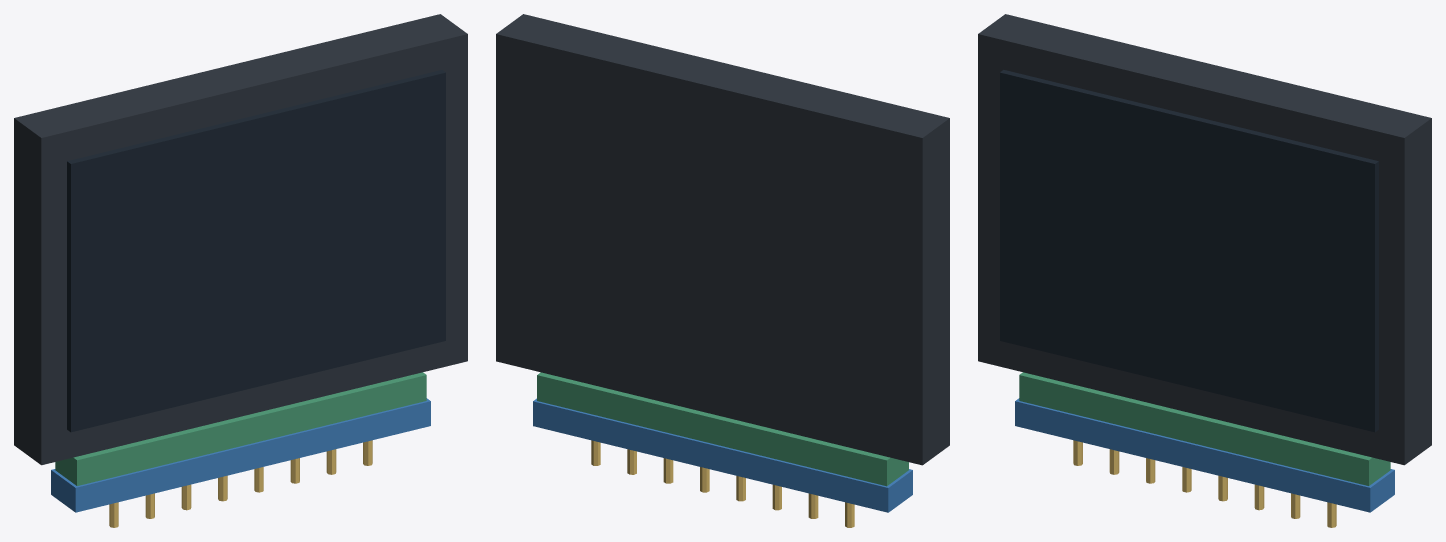
File: product-15.glb
3 renders of one model, left to right at view 1: azimuth 30°, elevation 25°; view 2: azimuth 150°, elevation 25°; view 3: azimuth 330°, elevation 25°, orthographic.
Parts seen in each view (by area): view 1: product-15; view 2: product-15; view 3: product-15.
Boxes of the visible parts, x1=… form: product-15: x1=14, y1=14, x2=467, y2=527; product-15: x1=496, y1=14, x2=949, y2=527; product-15: x1=978, y1=14, x2=1431, y2=527.
Size of the model in its own units: 0.9 by 0.8448 by 0.114.
